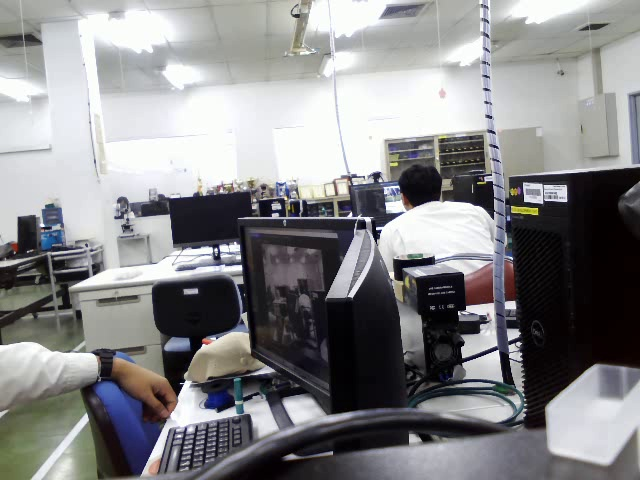aaa: (144, 255, 247, 343)
